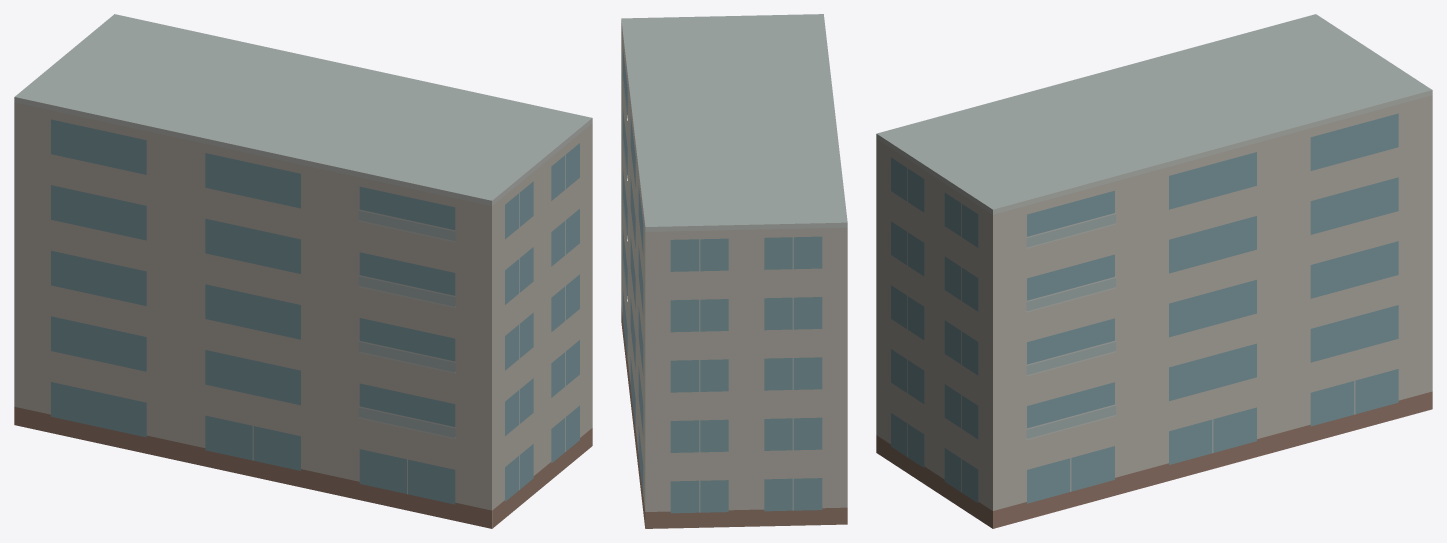
The model's file is survey-upis-32939217.glb.
3 renders of one model, left to right at view 1: azimuth 30°, elevation 25°; view 2: azimuth 150°, elevation 25°; view 3: azimuth 270°, elevation 25°, orthographic. The views are drawn at different scales.
Visible parts, largest first — view 1: survey-upis-32939217.tmp; view 2: survey-upis-32939217.tmp; view 3: survey-upis-32939217.tmp.
Part boxes in pixels (x1,y1,x2,y2): survey-upis-32939217.tmp: (14,14,592,528); survey-upis-32939217.tmp: (621,14,847,528); survey-upis-32939217.tmp: (876,14,1432,528).
Size of the model in its own units: 19.86 by 15.1 by 23.85.
